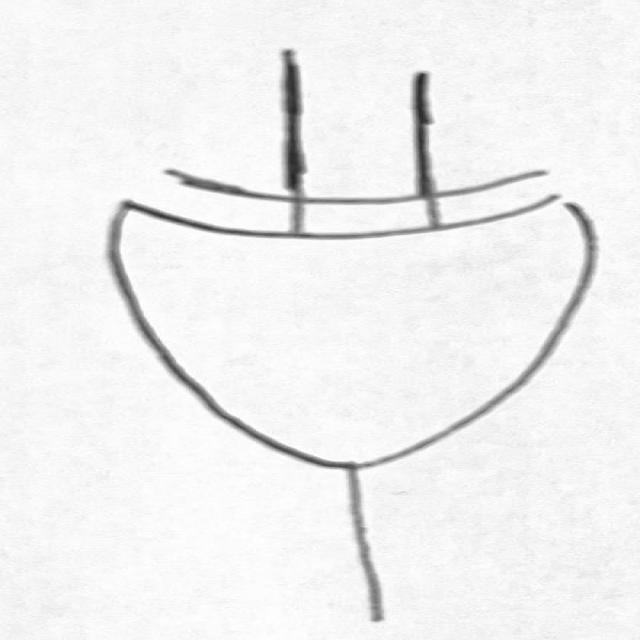XOR: (78, 134, 640, 483)
